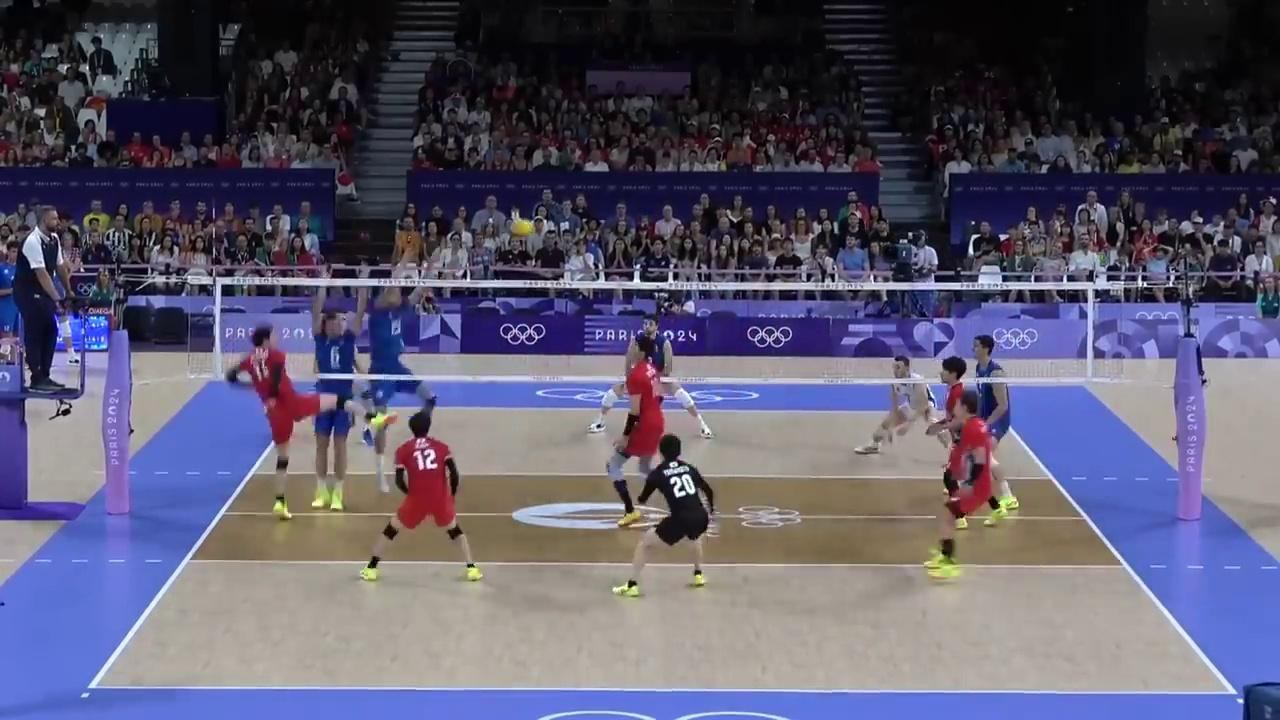ball: (508, 221, 537, 235)
